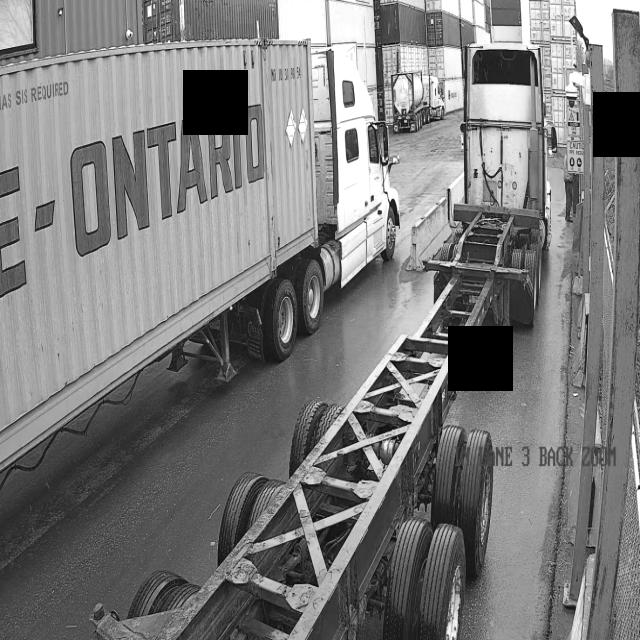container_company_logo: (0, 80, 264, 301)
truck_with_container: (0, 41, 401, 473)
truck_without_container: (92, 43, 556, 640)
